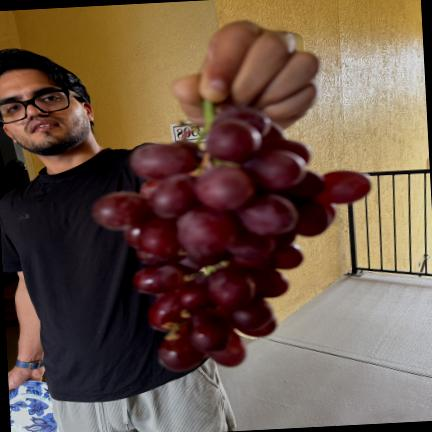grape_cluster: (92, 100, 371, 372)
